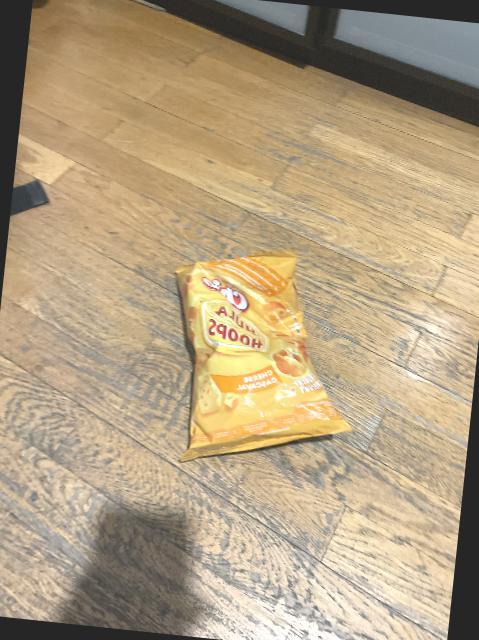Chio Hula Hoops Cheese 70g: (152, 244, 367, 479)
